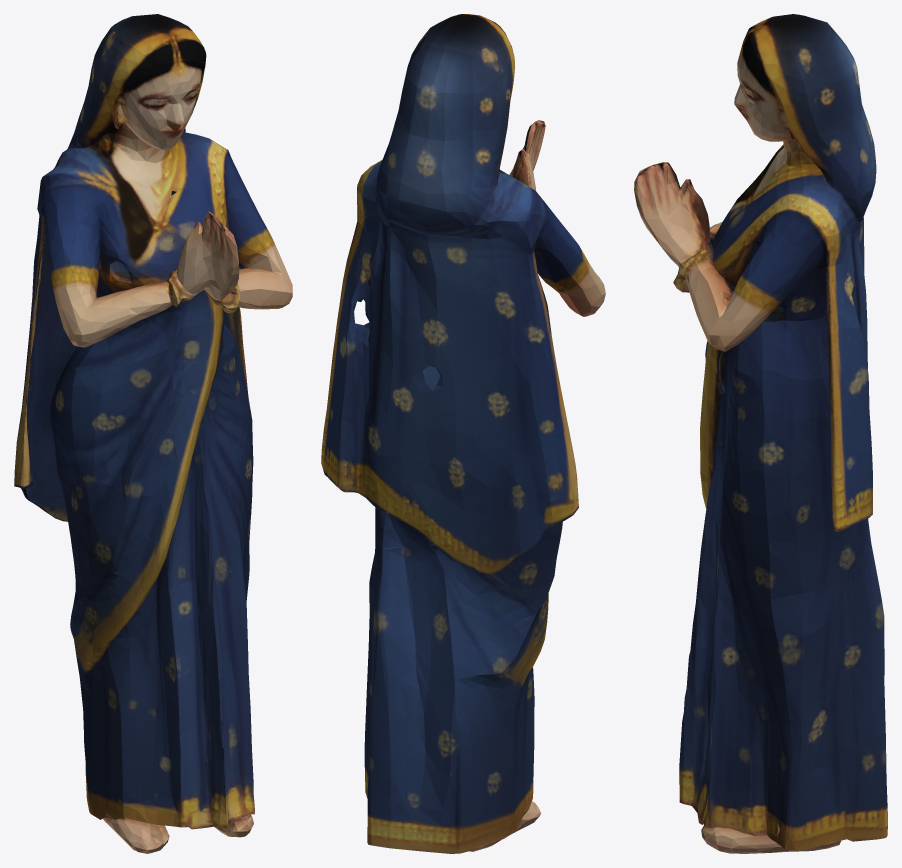
File: woman_standing_3.glb
3 renders of one model, left to right at view 1: azimuth 30°, elevation 25°; view 2: azimuth 150°, elevation 25°; view 3: azimuth 270°, elevation 25°, orthographic.
Parts seen in each view (by area): view 1: world; view 2: world; view 3: world.
Boxes of the visible parts, <box> form: world: <box>14,14,292,853</box>; world: <box>321,14,605,853</box>; world: <box>634,14,887,853</box>.
Bounding box in the file's own units: 0.3156 × 0.9976 × 0.2846.
Materials: 1 (1 with a texture image).
